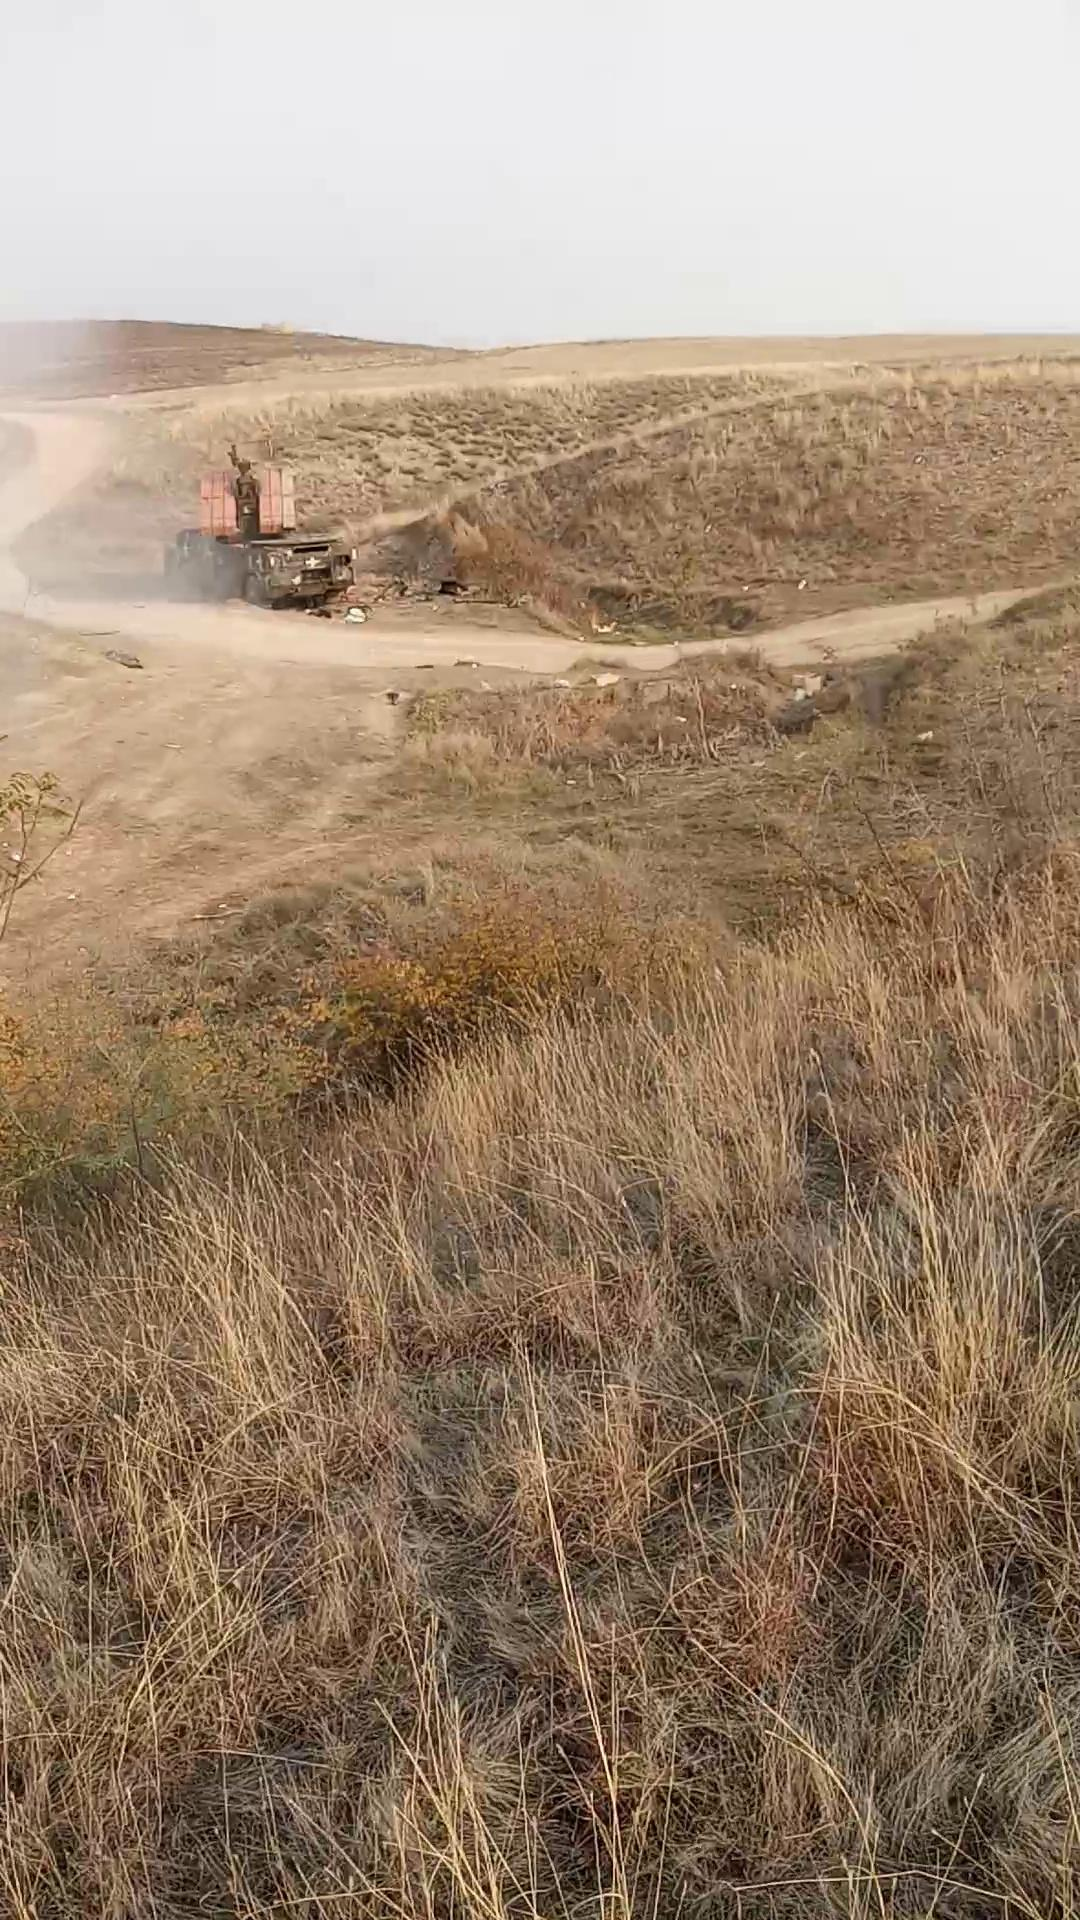MIL_SAM_TEL: (161, 454, 368, 618)
